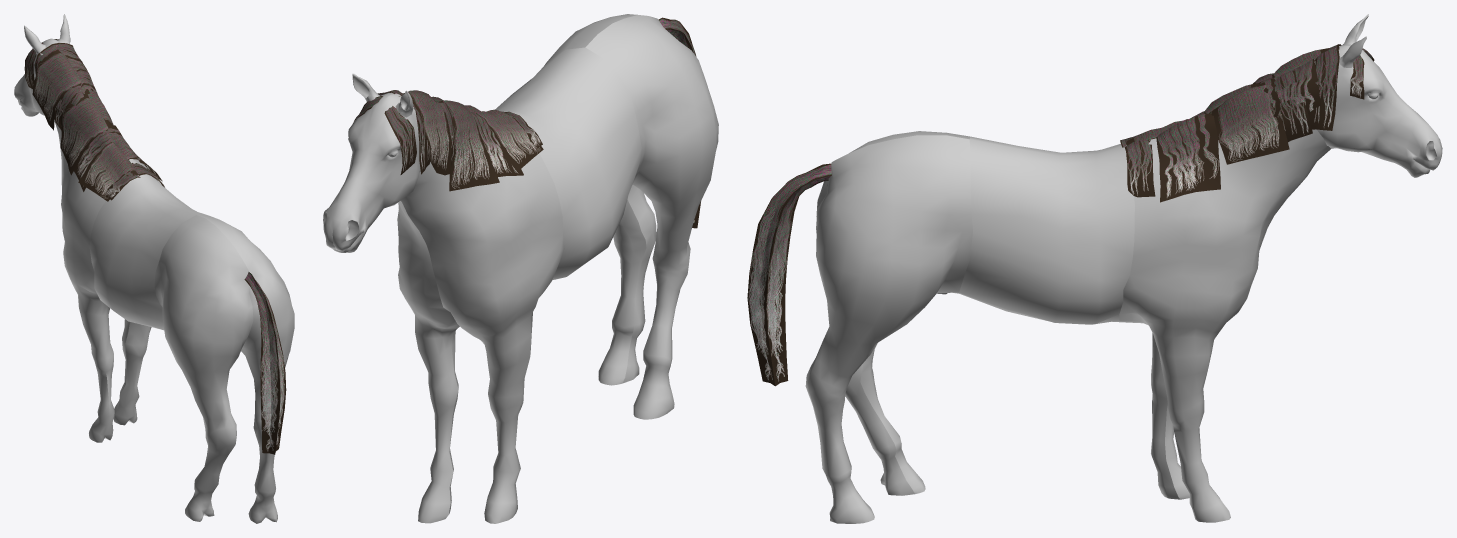
Rendered from horse.dae.
The picture shows the model from 3 angles, left to right: view 1: azimuth 30°, elevation 25°; view 2: azimuth 150°, elevation 25°; view 3: azimuth 270°, elevation 25°; orthographic projection. The views are drawn at different scales.
Visible parts, largest first — view 1: group_2, group_1 (×11); view 2: group_2, group_1 (×6); view 3: group_2, group_1 (×8).
Part boxes in pixels (box(x1,y1,x2,y2)): group_2: box(14, 14, 294, 523); group_1 (×11): box(24, 42, 286, 454); group_2: box(323, 14, 718, 523); group_1 (×6): box(384, 90, 543, 191); group_2: box(805, 14, 1442, 523); group_1 (×8): box(747, 45, 1339, 386).
Bounding box in the file's own units: 2711 × 11026 × 8409.
